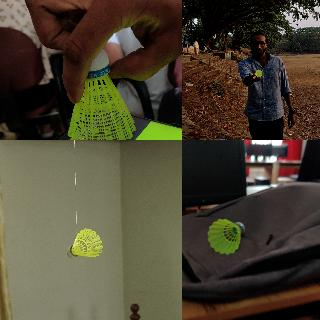shuttlecock: (68, 47, 137, 139), (206, 218, 244, 254), (66, 228, 102, 258), (254, 70, 262, 76)
